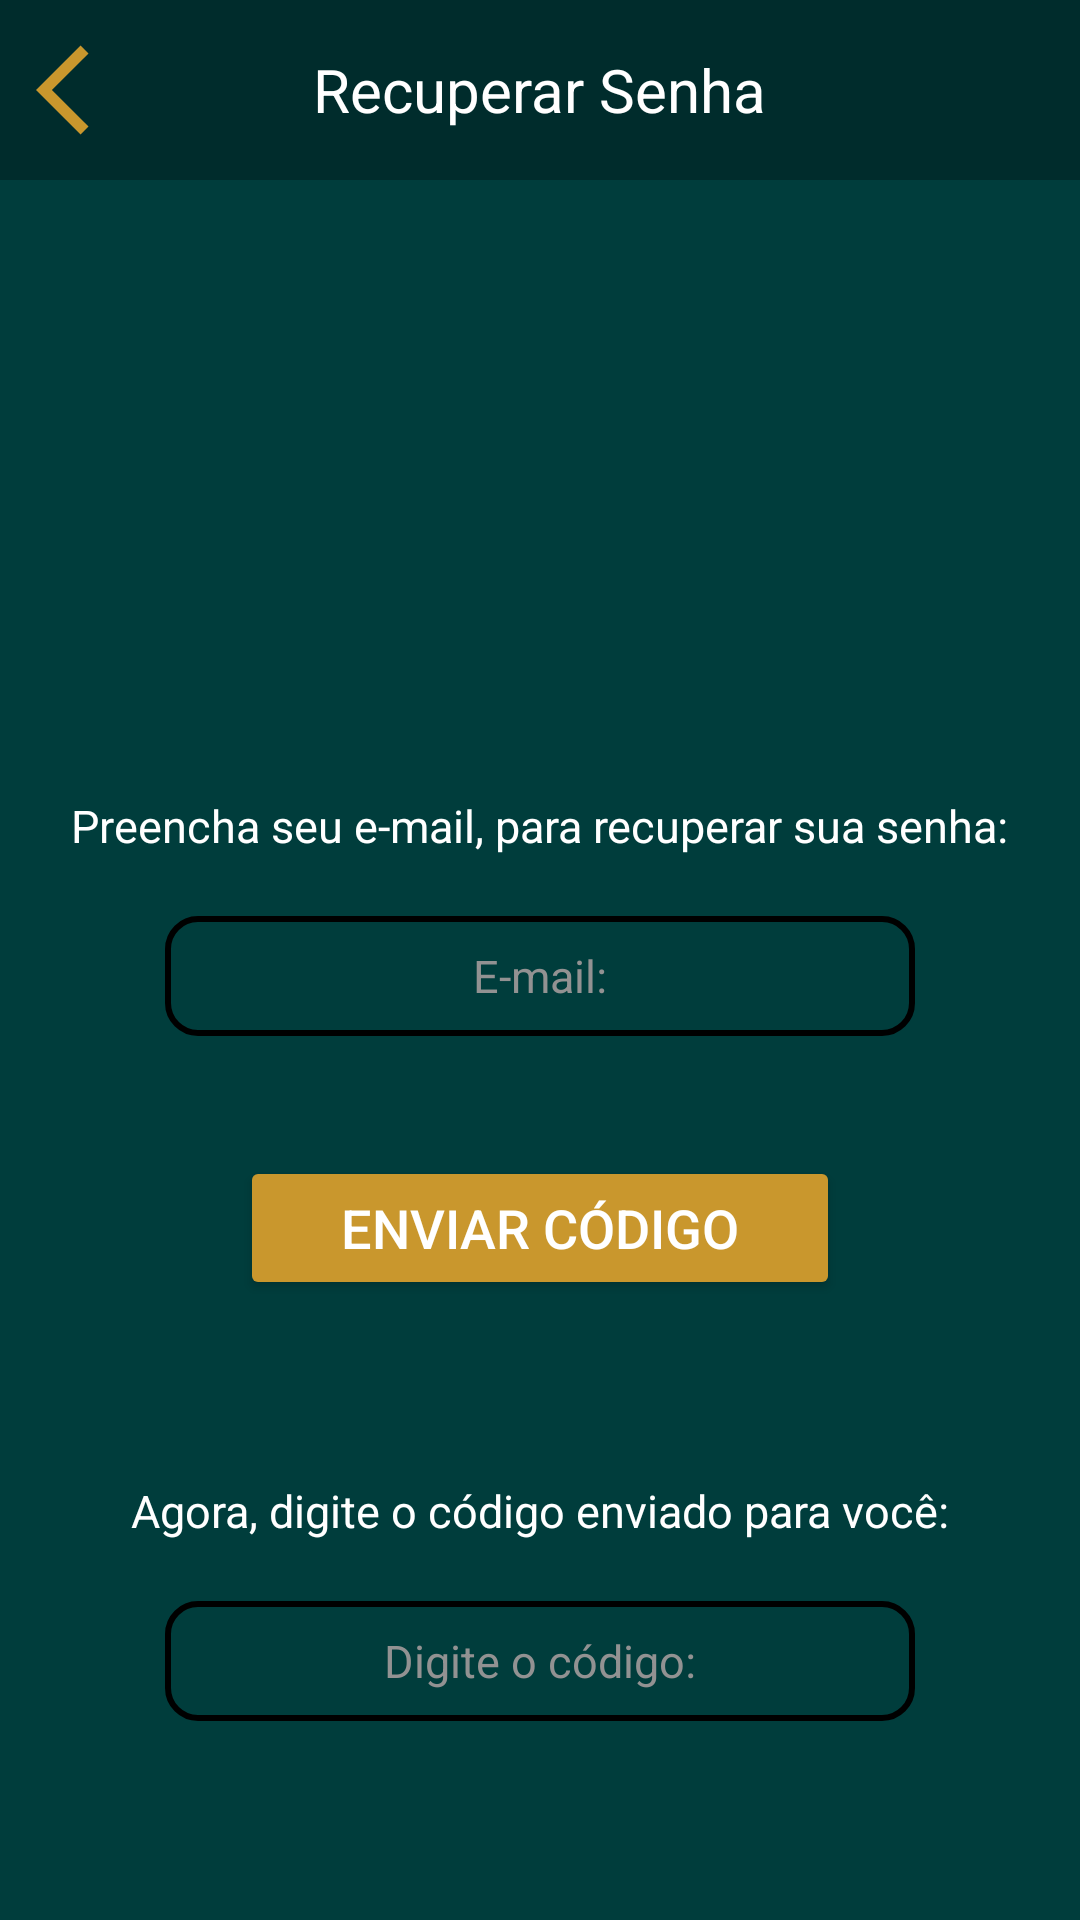

Screen size 1080*1920. Icon name, then its box in pixels as (x1, y1, x2, y2):
botaovoltar: (36, 45, 89, 135)
